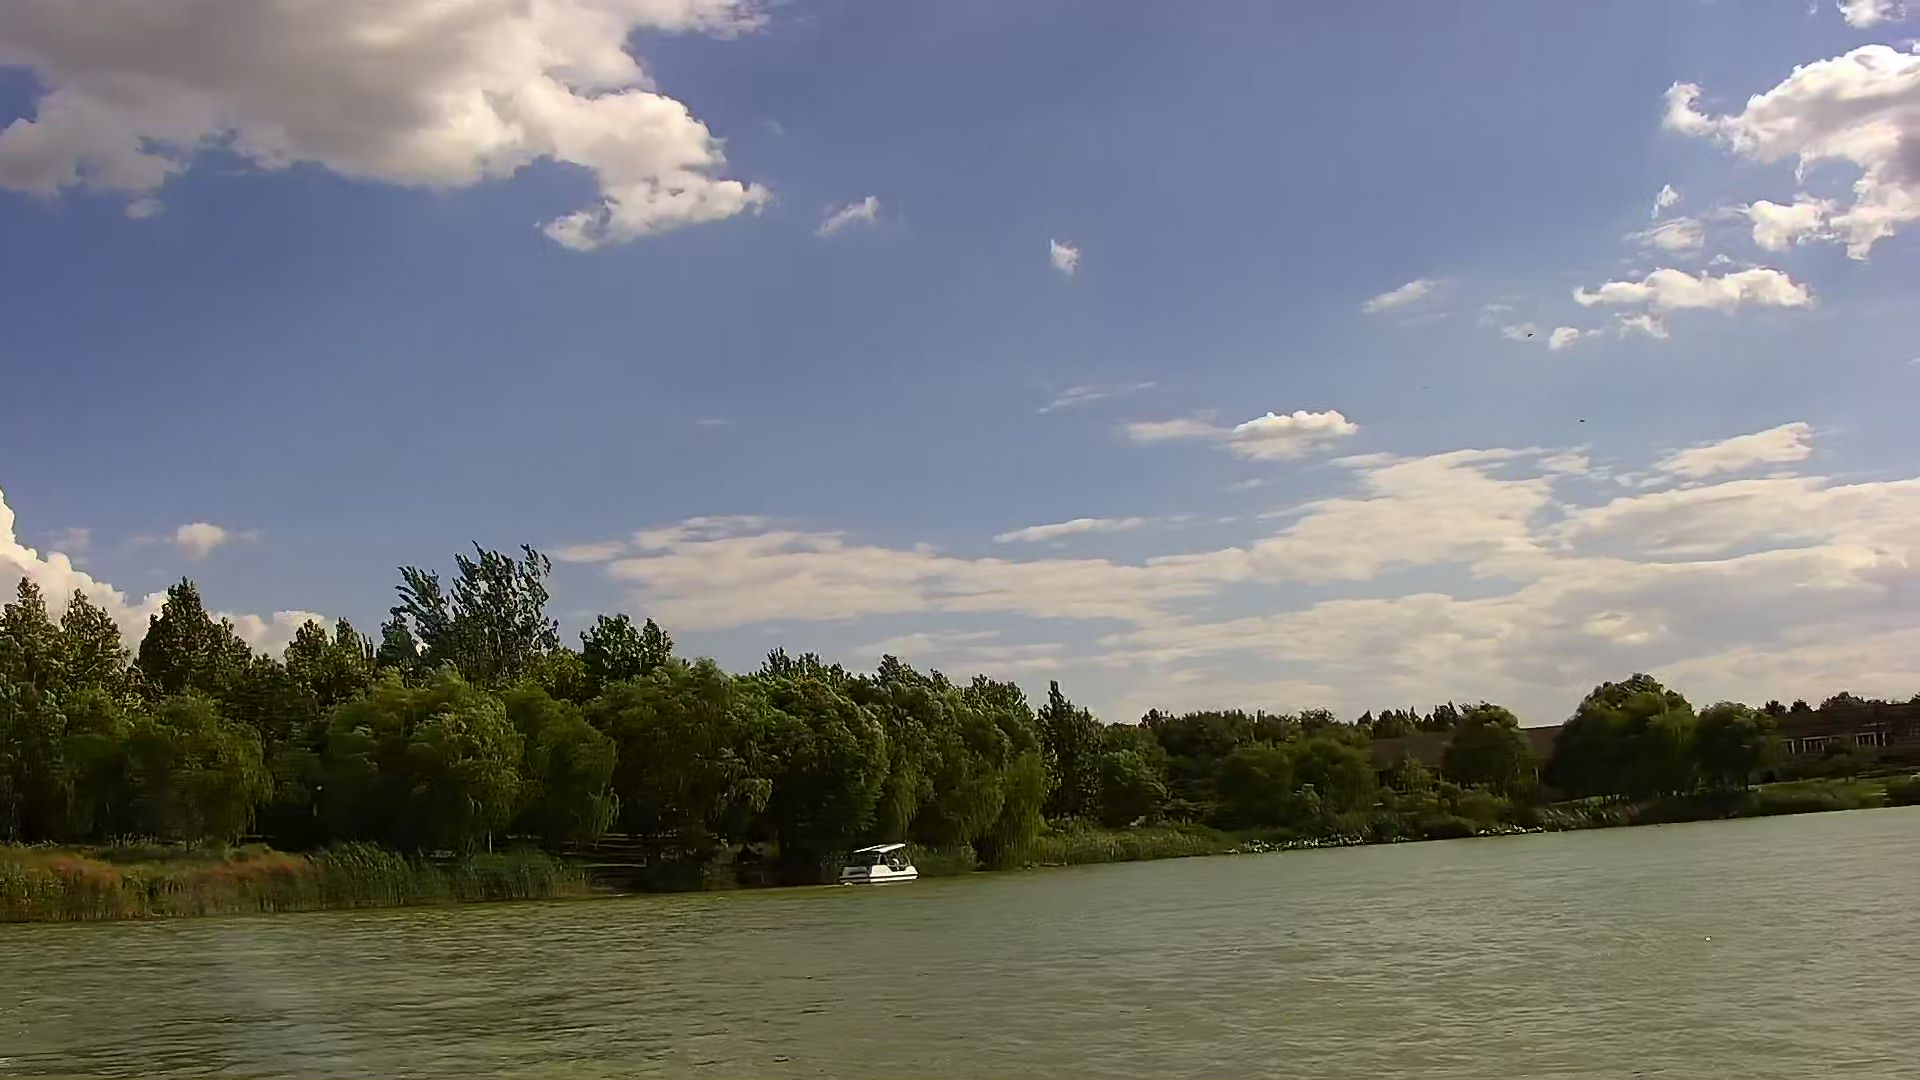boat: (837, 844, 919, 887)
